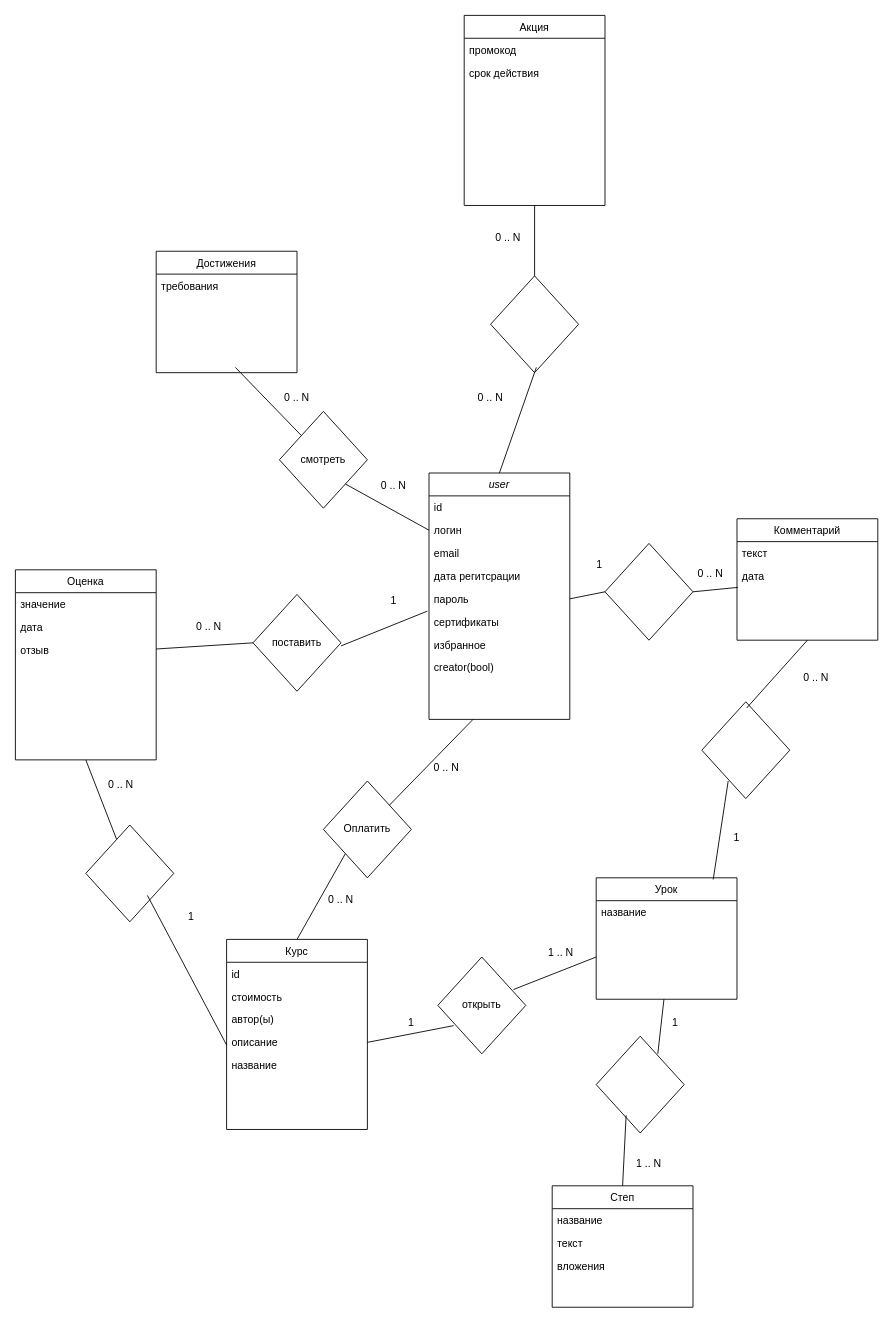
Some shapes in this 893 by 1323 pixel diagram are drawn without their labels. The centre of each missing label's shape, as x and y in pixels:
"воспользоваться" goes at (x=534, y=324).
"написать" goes at (x=648, y=591).
"оставить" goes at (x=745, y=750).
"оценить" goes at (x=129, y=873).
"перейти" goes at (x=639, y=1084).
